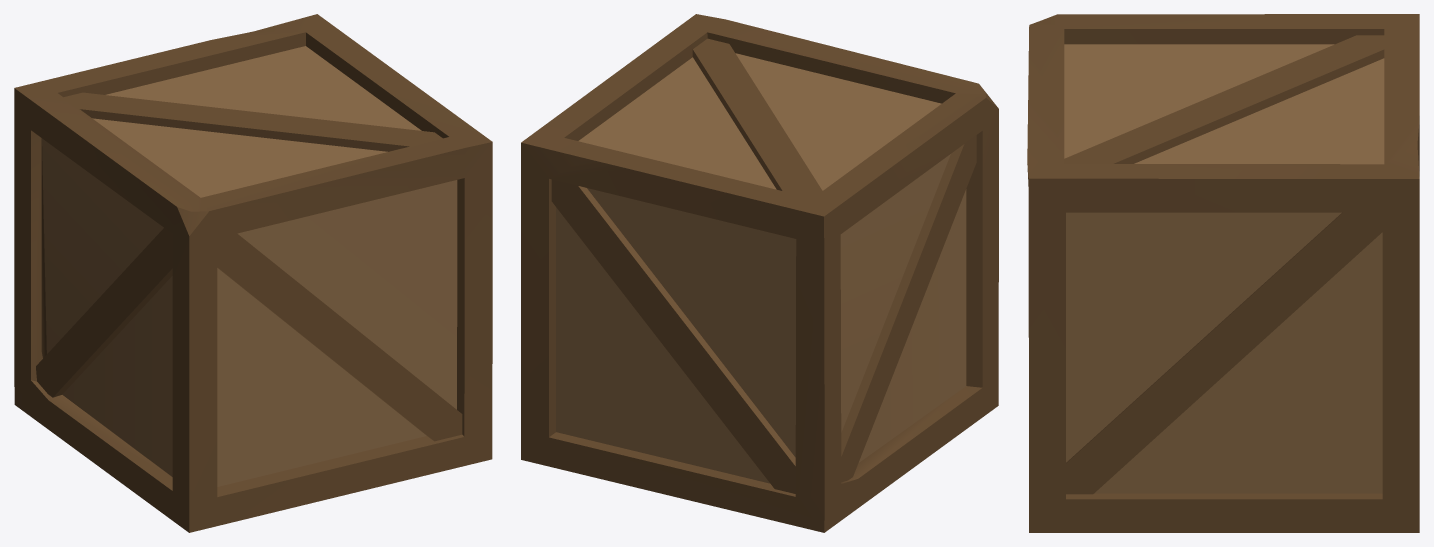
3 renders of one model, left to right at view 1: azimuth 30°, elevation 25°; view 2: azimuth 150°, elevation 25°; view 3: azimuth 270°, elevation 25°, orthographic. The views are drawn at different scales.
Parts seen in each view (by area): view 1: Box_01_LOD0; view 2: Box_01_LOD0; view 3: Box_01_LOD0.
Part boxes in pixels (bbox=[...]): Box_01_LOD0: bbox=[14, 14, 492, 532]; Box_01_LOD0: bbox=[521, 14, 998, 532]; Box_01_LOD0: bbox=[1027, 14, 1419, 532].
Size of what is drawn, in the model's own units: 0.9132 by 0.9166 by 0.9163.
